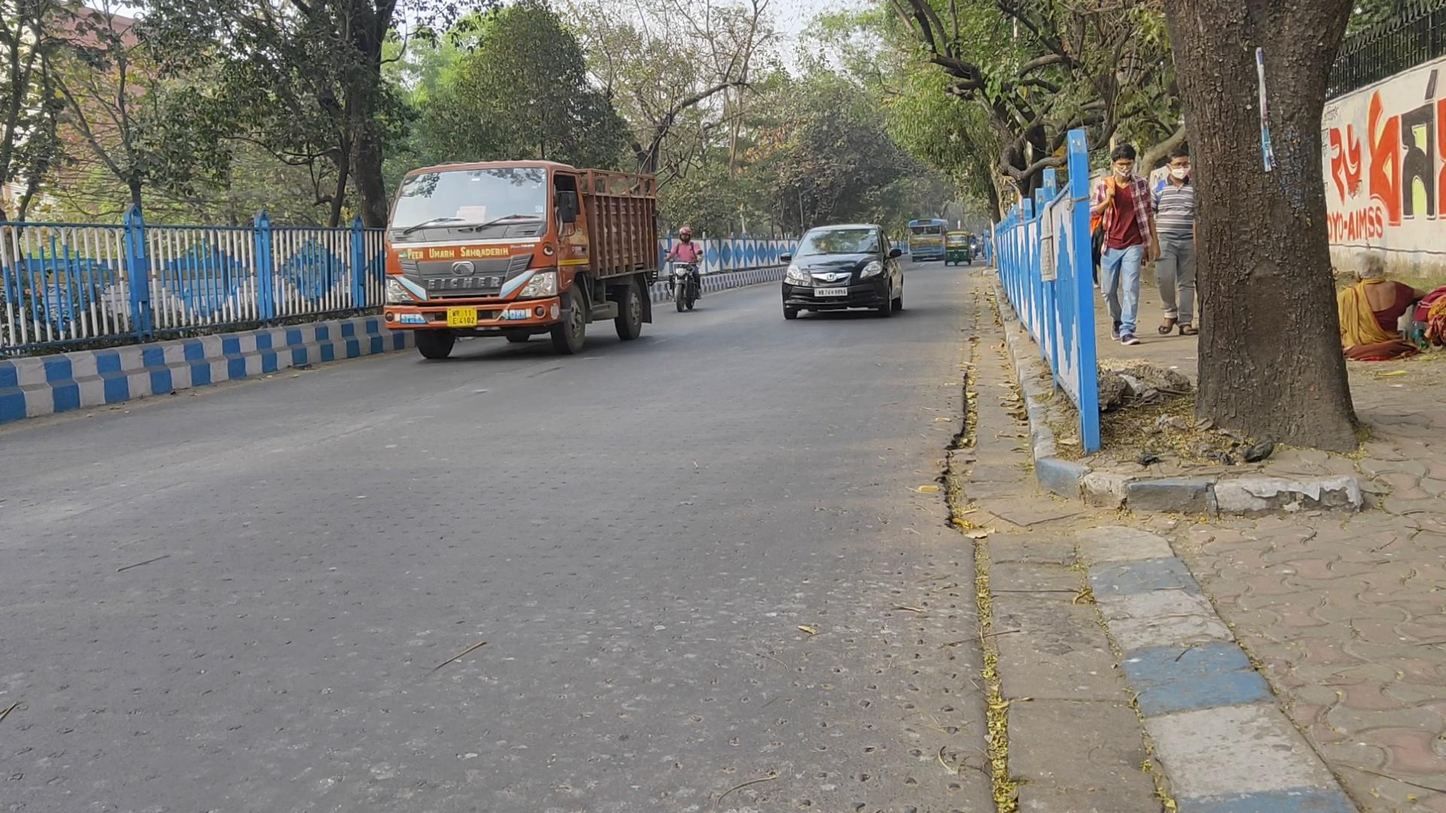Auto: (944, 229, 974, 269)
Bus: (906, 216, 949, 261)
bike: (663, 225, 703, 314)
car: (783, 223, 905, 324)
van: (381, 160, 657, 358)
